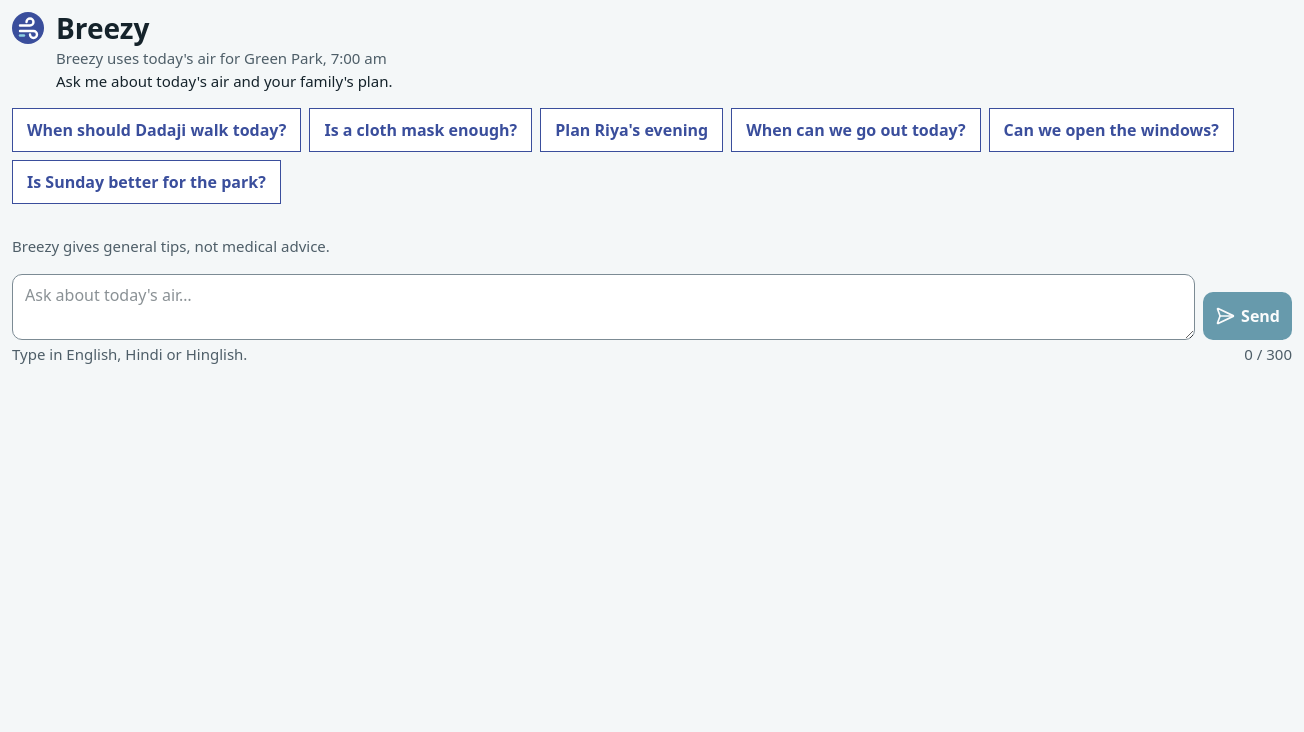
refusals and the status node › keeps the emergency alert out of the status node, and never asks the server
Type "Dadaji is short of breath" into the text box named "Your question for Breezy" at (604, 307), box [12,274,1195,340]
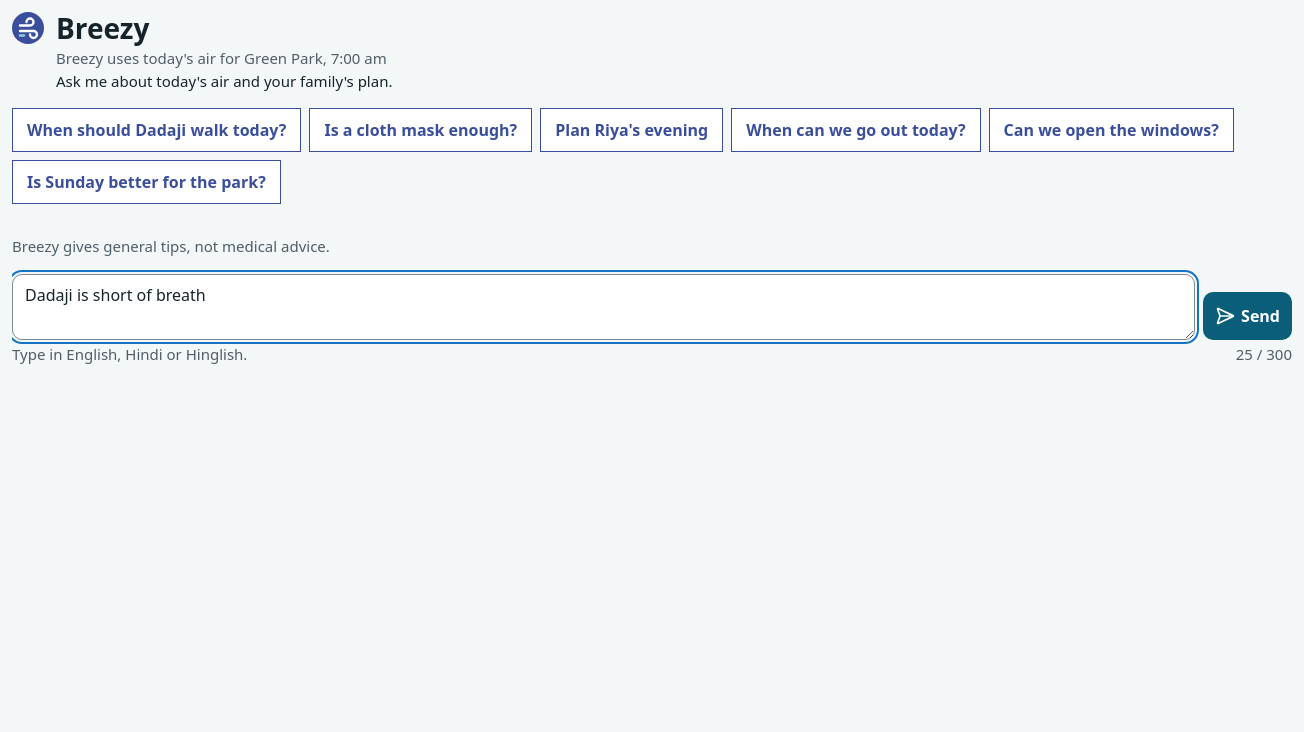
Click the button "Send" at (1248, 316), box [1203,292,1292,340]
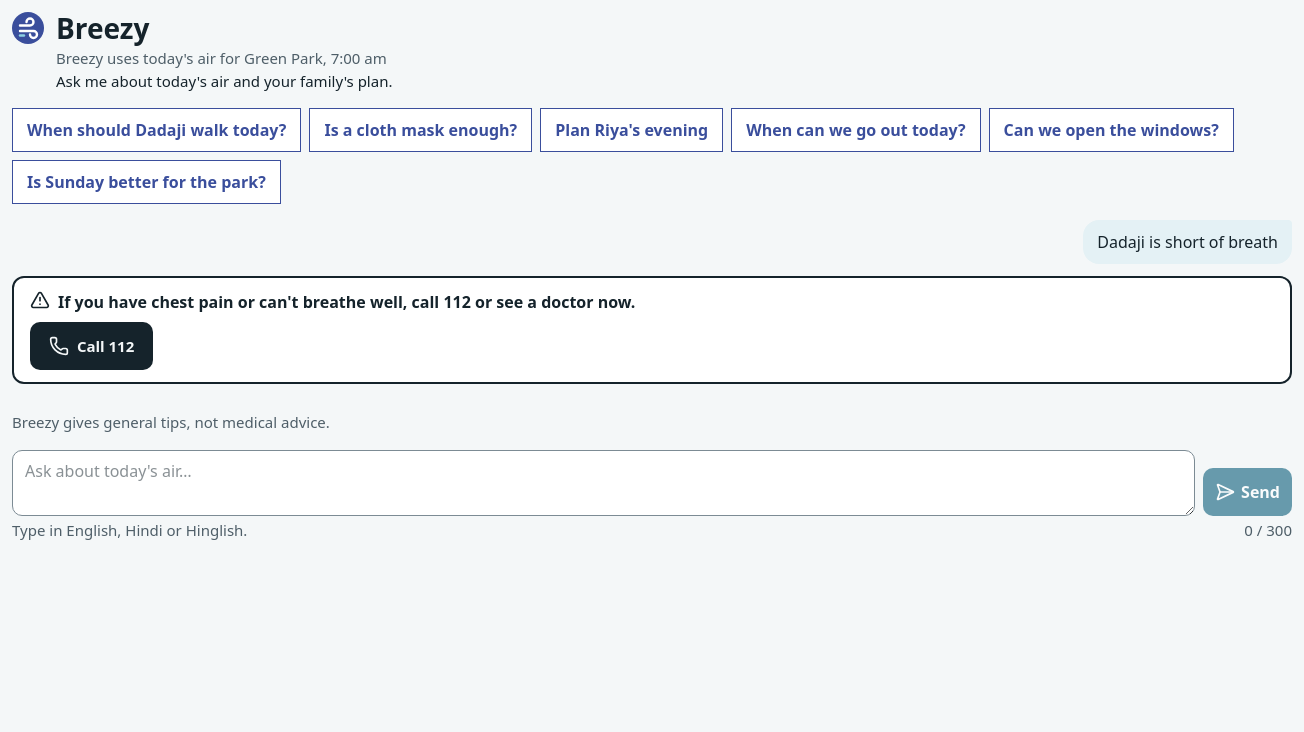
Now the message shows "call 112", box [30,322,153,370]
